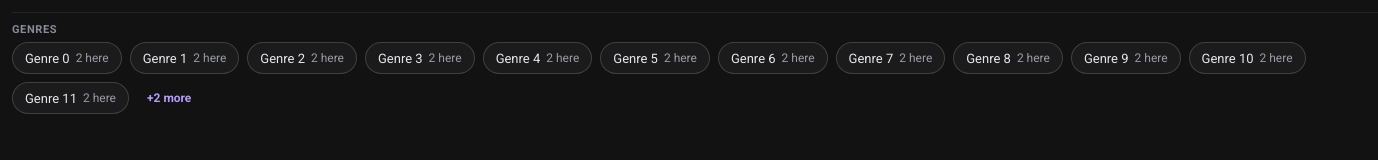
Scenario: InfoTagsComponent › "+N more" is a button that adds the rest of the bucket in place, from the shown chips on
The width and height of the screenshot is (1378, 160).
Click the button with test id "info-more". click: (169, 98)
box: [137,82,201,114]
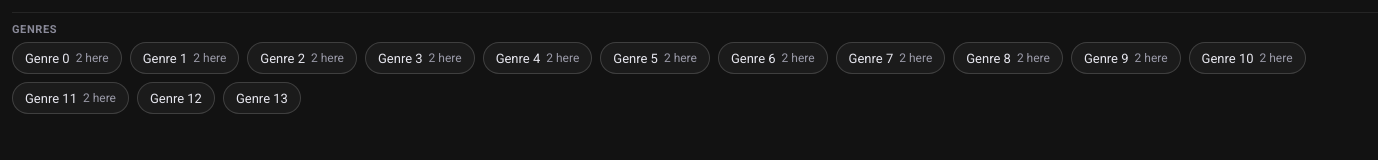
Expected: the button with test id "info-more" is gone
